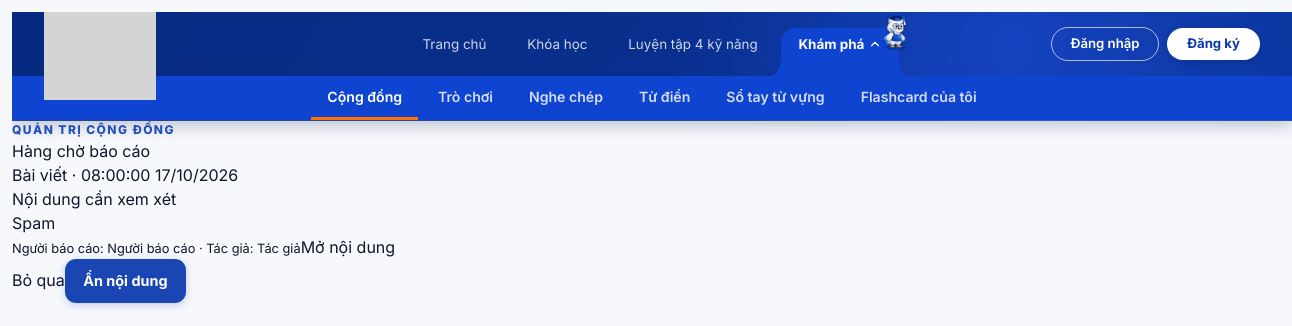
Test: ContentReportsAdminPage › renders the admin queue from its page URL and resolves a report
Check: the text "Nội dung cần xem xét" is shown, box [12, 189, 176, 209]
Check: the text "Người báo cáo: Người báo cáo" is shown, box [12, 241, 195, 256]
Click the button "Ẩn nội dung": (125, 281) [65, 259, 186, 303]
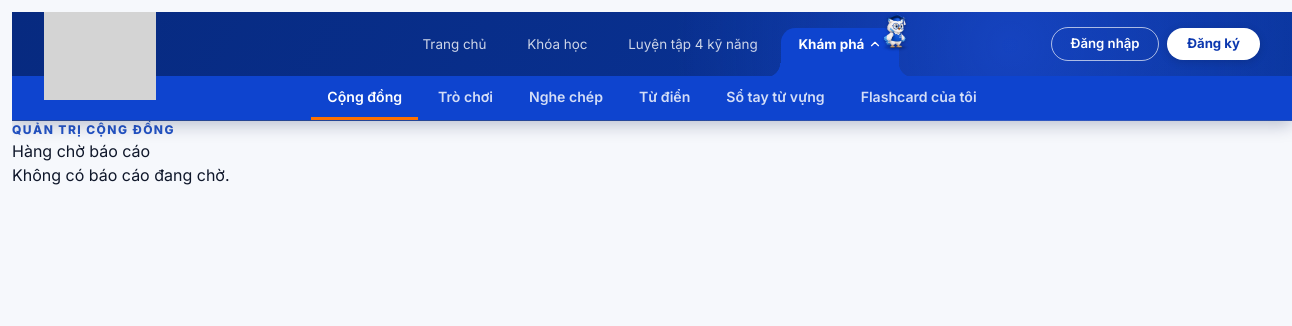
Check: the text "Không có báo cáo đang chờ." is shown, box [12, 165, 230, 185]
